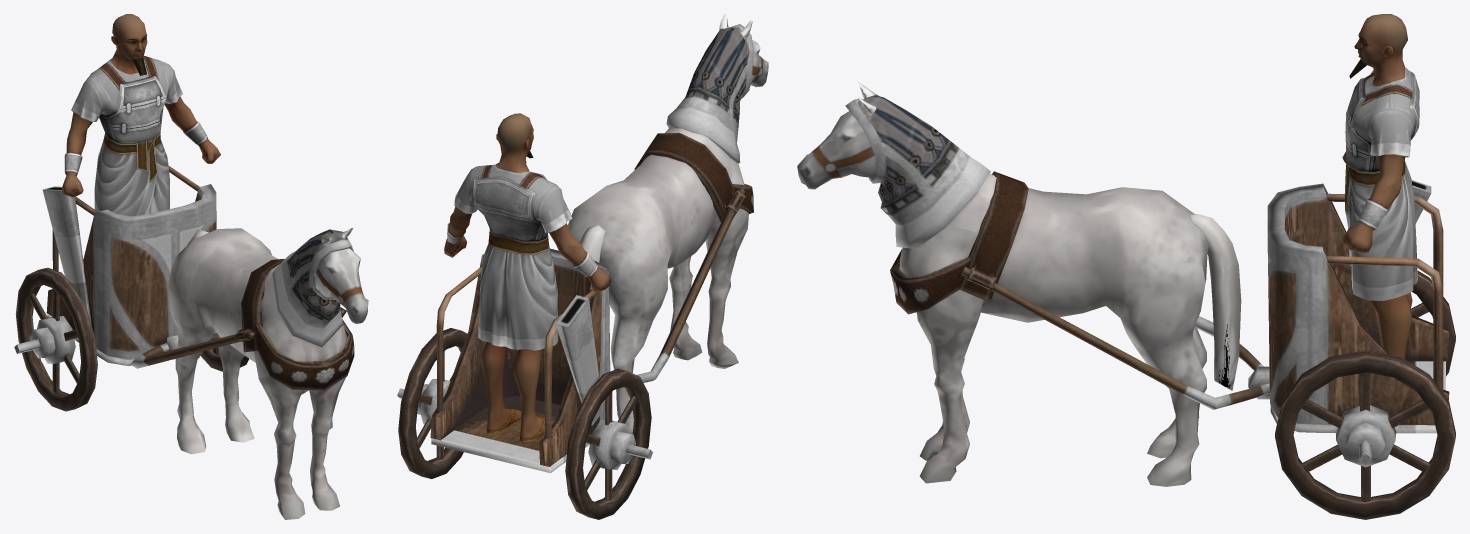
The model's file is 12-chariotarcher.glb.
The picture shows the model from 3 angles, left to right: view 1: azimuth 30°, elevation 25°; view 2: azimuth 150°, elevation 25°; view 3: azimuth 270°, elevation 25°; orthographic projection. The views are drawn at different scales.
Size of the model in its own units: 1.72 by 2.51 by 3.31.
Materials: 3 (3 with a texture image).
